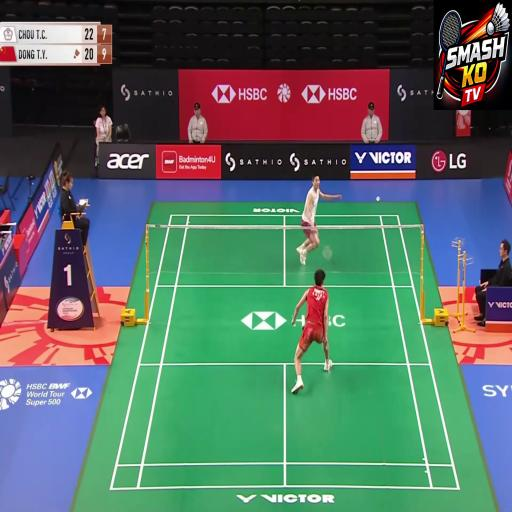player: (279, 265, 344, 393), (293, 147, 325, 270)
